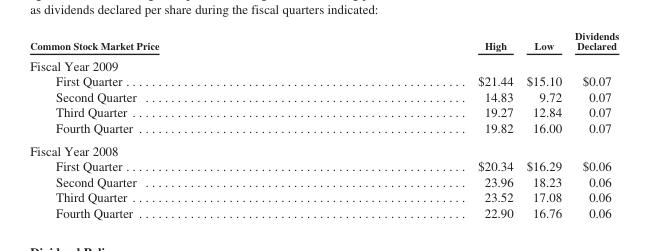table: (29, 28, 618, 219)
table column: (29, 28, 317, 219), (317, 28, 519, 219), (567, 28, 618, 219), (519, 28, 567, 219)
table column header: (29, 28, 618, 54)
table projected row header: (29, 138, 618, 158), (29, 54, 618, 72)
table row: (29, 28, 618, 54), (29, 138, 618, 158), (29, 119, 618, 138), (29, 54, 618, 72), (29, 72, 618, 88), (29, 103, 618, 119), (29, 173, 618, 189), (29, 88, 618, 103), (29, 158, 618, 173), (29, 189, 618, 204), (29, 204, 618, 219)
